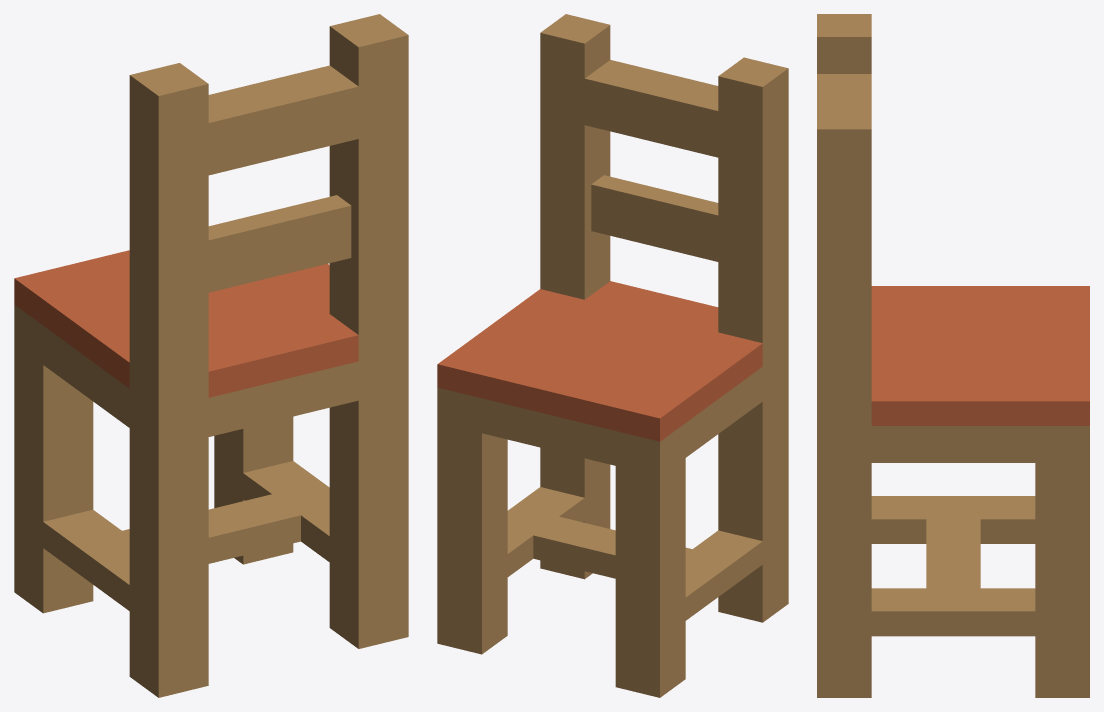
Rendered from chairCushion.glb.
The picture shows the model from 3 angles, left to right: view 1: azimuth 30°, elevation 25°; view 2: azimuth 150°, elevation 25°; view 3: azimuth 270°, elevation 25°; orthographic projection. The views are drawn at different scales.
Visible parts, largest first — view 1: chairCushion; view 2: chairCushion; view 3: chairCushion.
Boxes of the visible parts, x1,y1,x2,y2 form: chairCushion: (14, 14, 408, 697); chairCushion: (437, 14, 788, 697); chairCushion: (817, 14, 1089, 697).
Size of the model in its own units: 0.4 by 0.92 by 0.4.
